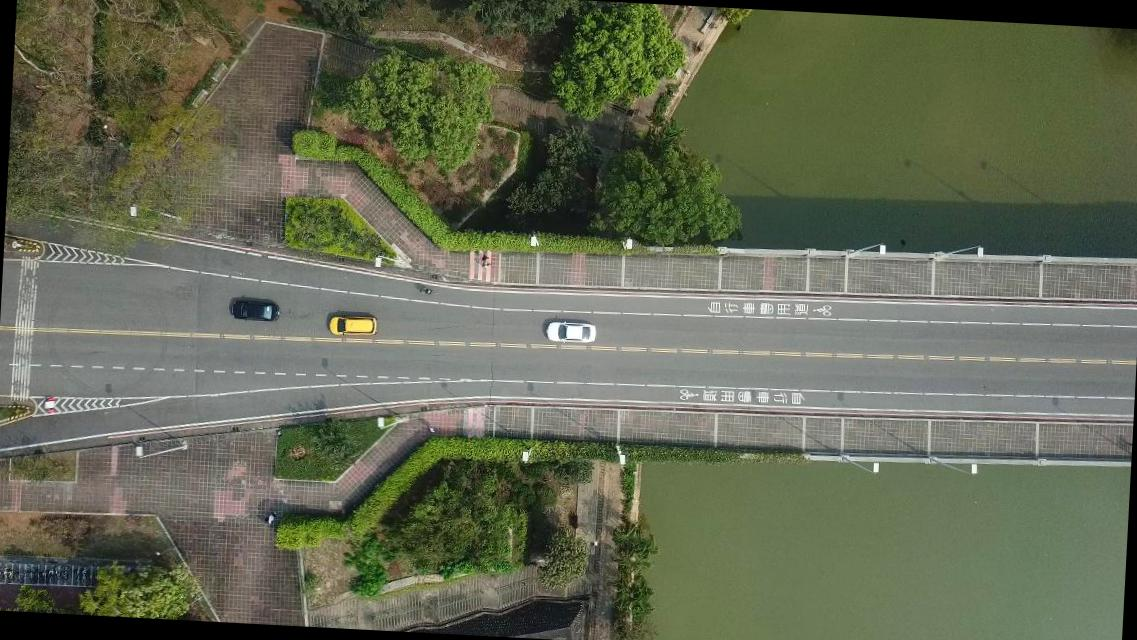vehicle: (544, 320, 596, 344), (228, 298, 278, 322), (328, 314, 378, 337)
